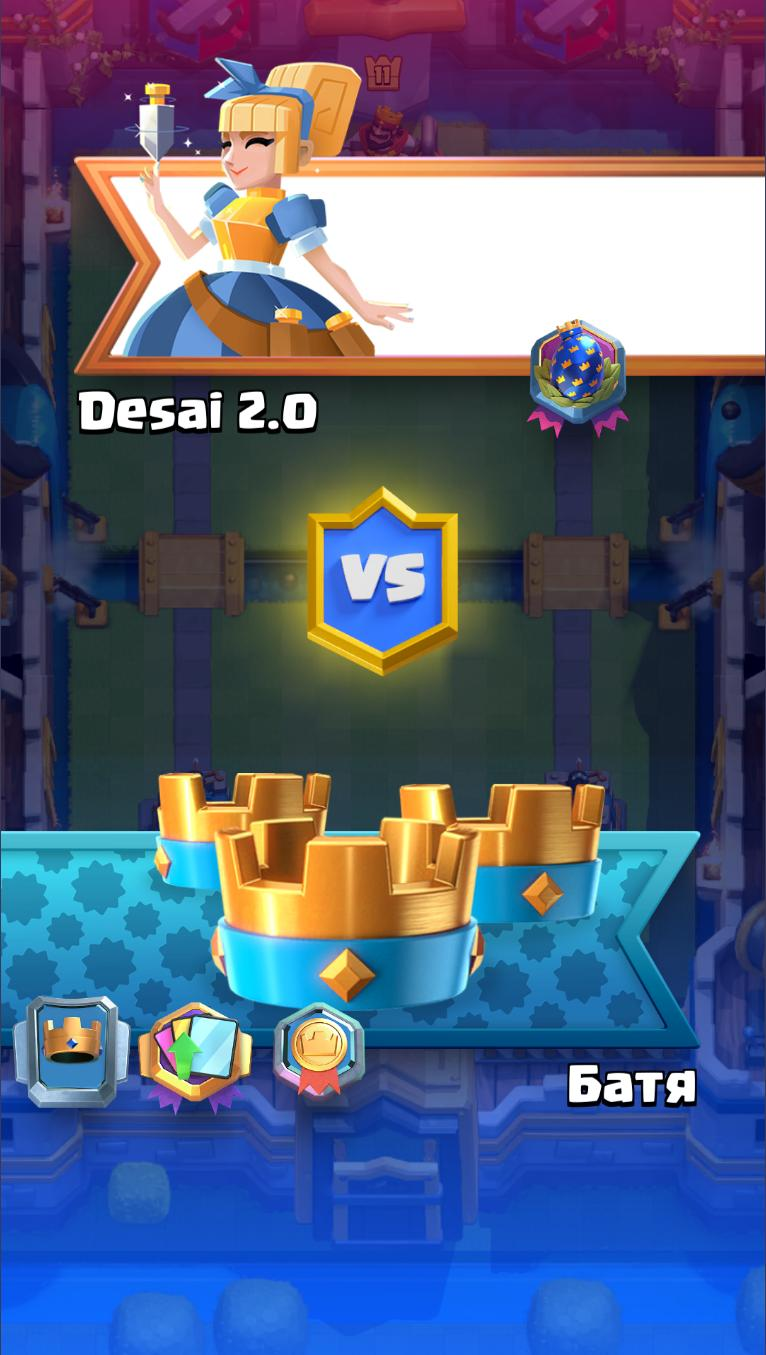GameStart: (0, 772, 702, 1121)
